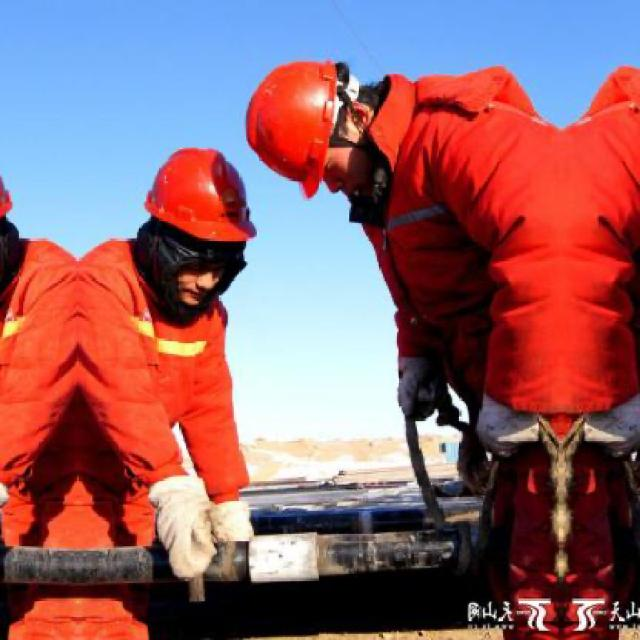con casco: (237, 47, 397, 206), (114, 143, 264, 303)
